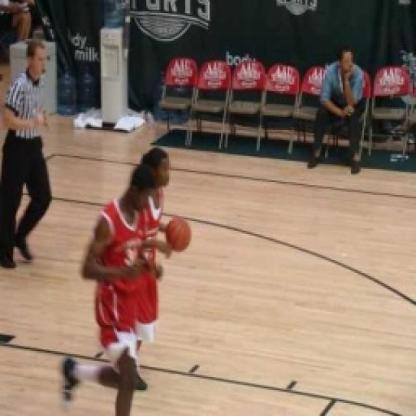basketball: (164, 214, 193, 252)
